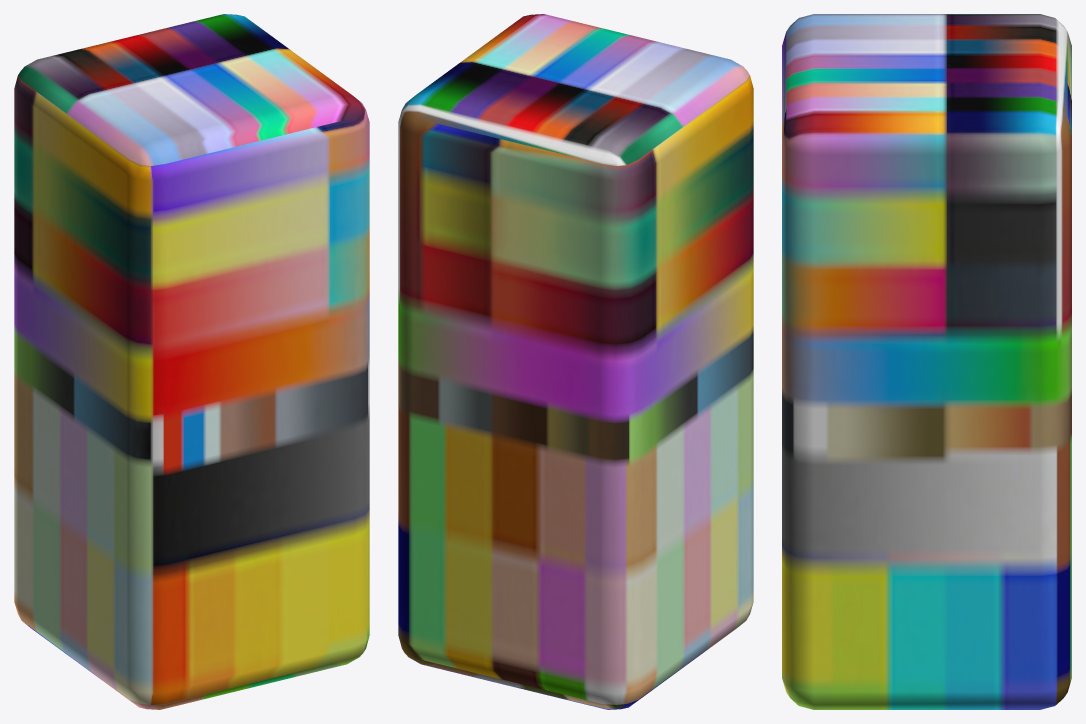
Rendered from TallCube.fbx.
The picture shows the model from 3 angles, left to right: view 1: azimuth 30°, elevation 25°; view 2: azimuth 150°, elevation 25°; view 3: azimuth 270°, elevation 25°; orthographic projection. The views are drawn at different scales.
Parts seen in each view (by area): view 1: Cube.002; view 2: Cube.002; view 3: Cube.002.
Boxes of the visible parts, x1,y1,x2,y2 form: Cube.002: (14,14,369,709); Cube.002: (398,14,753,709); Cube.002: (782,14,1071,709).
Size of the model in its own units: 2 by 4.53 by 2.
